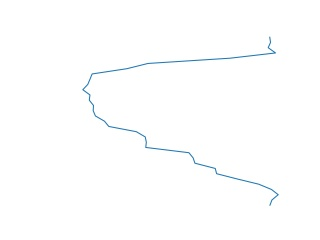mouthBar: (78, 38, 285, 207)
